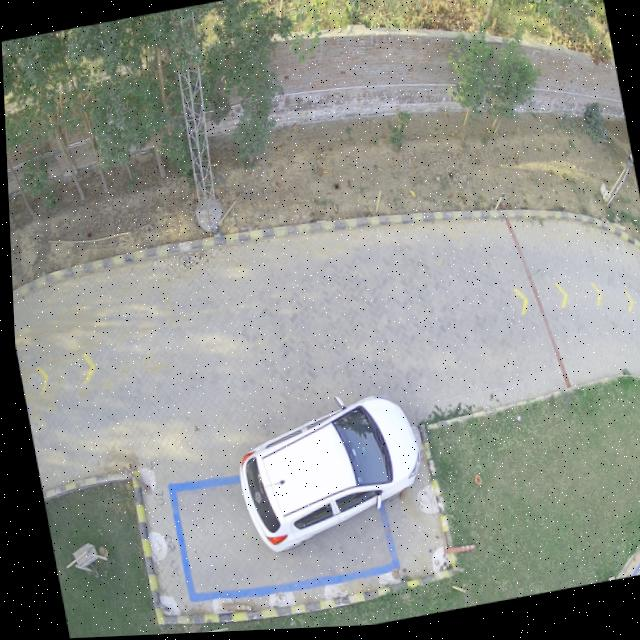car: (235, 400, 417, 554)
